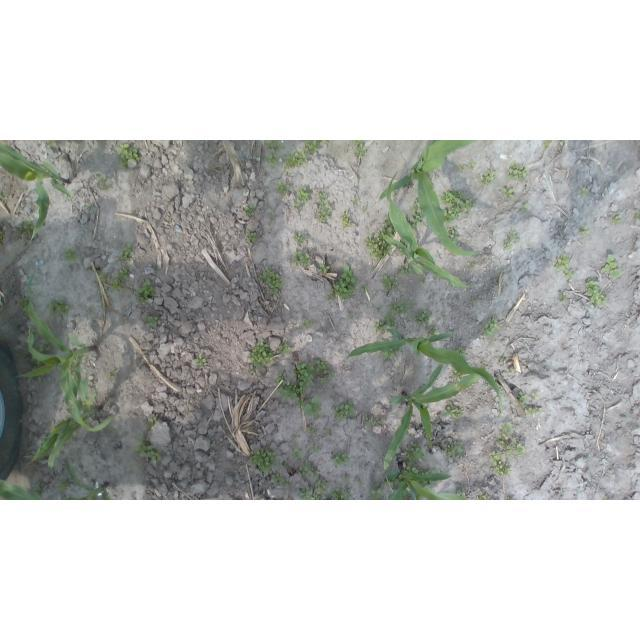Maize: (18, 271, 114, 434), (345, 328, 503, 412), (378, 141, 481, 258), (383, 172, 478, 290), (383, 363, 485, 468), (26, 363, 103, 477), (1, 140, 72, 244), (0, 457, 110, 500), (386, 468, 471, 500)
Weeds: (439, 190, 473, 225), (327, 264, 358, 300), (497, 423, 528, 457), (365, 226, 394, 262), (249, 448, 284, 475), (275, 380, 306, 408), (248, 340, 275, 369), (134, 435, 163, 461), (257, 268, 284, 295), (488, 450, 512, 476), (116, 144, 141, 168), (293, 361, 316, 387), (586, 278, 607, 306), (299, 480, 327, 500), (315, 193, 333, 224), (315, 358, 336, 384), (47, 298, 71, 320), (135, 280, 157, 304), (410, 198, 427, 228), (332, 399, 354, 422), (600, 254, 620, 279), (109, 268, 129, 293), (282, 149, 308, 168), (555, 253, 574, 277), (303, 396, 322, 420), (480, 315, 500, 337), (442, 401, 465, 420), (388, 298, 412, 316), (506, 162, 527, 182), (374, 313, 396, 332), (404, 442, 425, 461), (288, 251, 310, 268), (298, 460, 318, 478), (442, 444, 463, 461), (33, 335, 51, 354), (504, 230, 521, 250), (271, 472, 292, 488), (332, 450, 350, 468), (367, 484, 386, 501), (295, 187, 309, 210), (331, 486, 353, 500), (350, 141, 368, 158), (380, 276, 398, 293), (23, 220, 37, 241), (414, 308, 432, 324), (444, 226, 459, 245), (479, 170, 495, 186), (119, 244, 134, 261), (304, 141, 321, 156), (382, 348, 401, 361), (264, 140, 284, 152), (274, 180, 290, 194), (30, 356, 46, 370), (278, 341, 292, 356), (19, 297, 30, 316), (364, 416, 382, 427), (385, 475, 403, 486), (266, 153, 278, 169), (339, 212, 351, 228), (291, 448, 305, 461), (56, 480, 70, 493), (608, 212, 623, 224), (406, 460, 421, 472), (64, 248, 77, 261), (502, 187, 516, 199), (144, 316, 159, 327), (523, 405, 539, 415), (399, 264, 411, 277), (454, 484, 466, 497), (95, 171, 106, 185), (517, 391, 527, 406), (385, 215, 396, 228), (301, 317, 312, 329), (415, 479, 437, 485), (196, 356, 207, 368), (401, 486, 410, 500), (452, 368, 461, 382), (243, 205, 254, 216), (295, 232, 305, 244), (319, 264, 330, 274), (246, 232, 257, 242), (97, 274, 109, 283), (419, 469, 437, 475), (276, 371, 285, 383), (457, 348, 468, 357), (148, 417, 157, 428), (468, 159, 477, 170), (44, 140, 56, 148), (310, 444, 320, 453), (428, 325, 436, 336), (633, 208, 640, 220), (580, 226, 589, 235), (108, 372, 117, 381), (480, 492, 489, 501), (307, 426, 317, 434), (32, 484, 41, 492), (544, 140, 553, 148), (85, 204, 95, 211), (579, 189, 589, 196), (291, 433, 300, 440), (268, 212, 275, 221), (521, 204, 528, 213), (352, 198, 361, 205), (1, 191, 8, 199), (466, 262, 474, 269), (531, 390, 538, 398), (325, 428, 331, 437), (16, 228, 23, 235), (209, 444, 216, 451), (418, 277, 425, 284), (343, 475, 350, 482), (458, 164, 464, 172), (506, 367, 514, 373), (559, 141, 565, 148), (488, 234, 494, 241), (472, 299, 477, 307), (0, 232, 4, 241), (559, 294, 565, 300), (362, 285, 368, 291), (441, 313, 447, 319), (260, 494, 265, 500), (362, 208, 367, 213), (246, 368, 251, 373), (506, 497, 513, 500), (322, 141, 329, 144), (88, 310, 92, 315), (348, 316, 352, 321)
